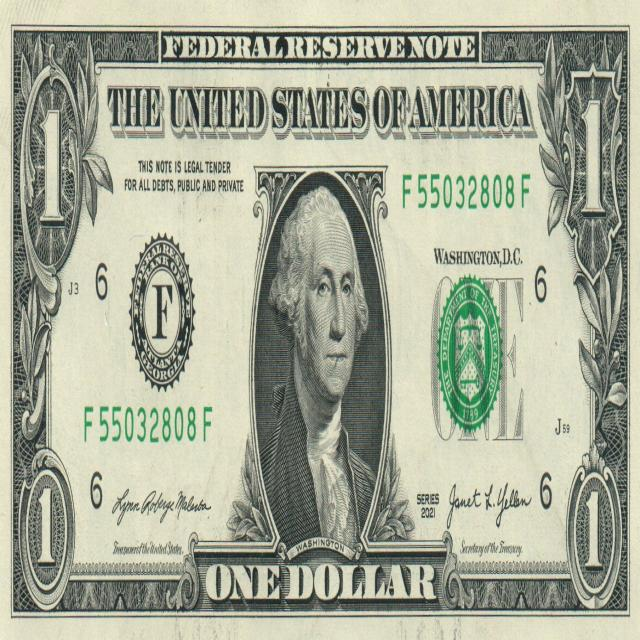SerialNumber: (85, 406, 212, 443), (403, 174, 530, 210)
